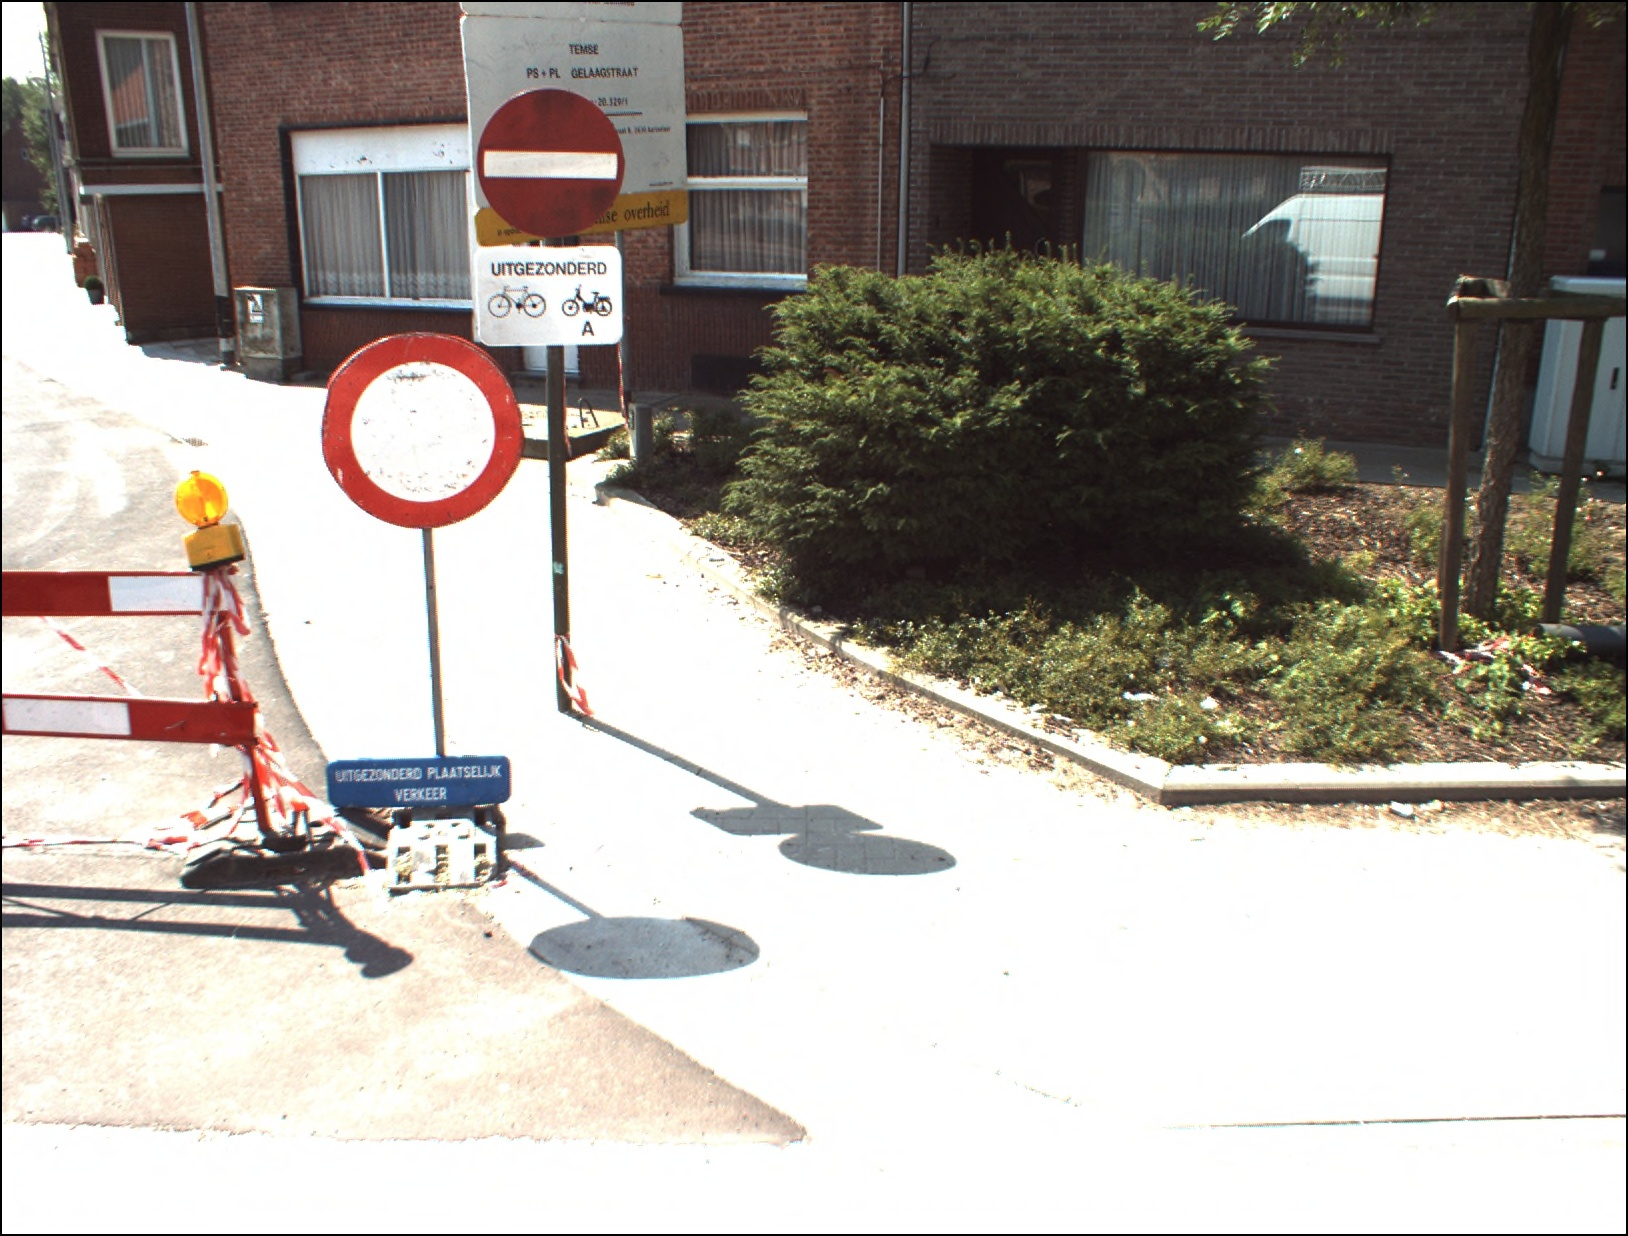forbidden: (322, 335, 524, 527)
noentry: (476, 88, 624, 238)
